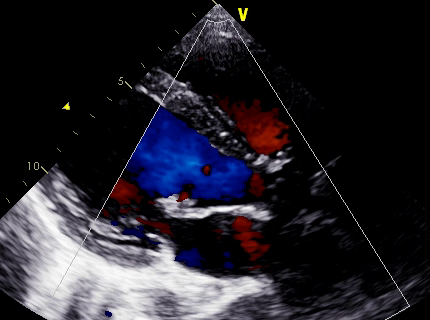MR: (155, 212, 210, 270)
